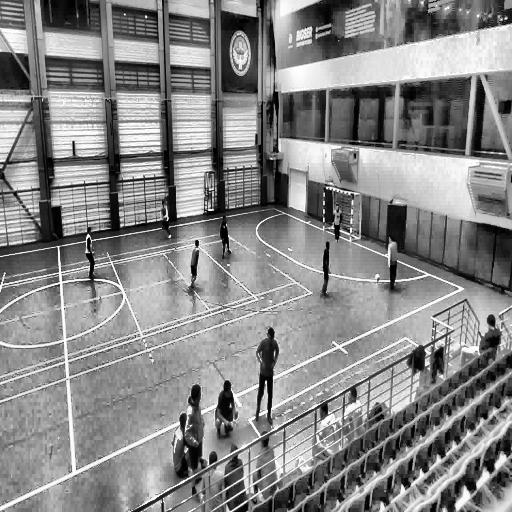ball: (373, 271, 382, 283)
player: (252, 327, 278, 426), (185, 383, 207, 500), (172, 412, 208, 477), (252, 429, 277, 496), (200, 451, 226, 512), (311, 402, 338, 460), (224, 445, 246, 510), (215, 379, 238, 441), (340, 386, 362, 432), (386, 233, 398, 293), (189, 238, 201, 289), (85, 226, 96, 279), (219, 216, 231, 259), (322, 239, 330, 297), (331, 205, 342, 243), (161, 200, 171, 236)
